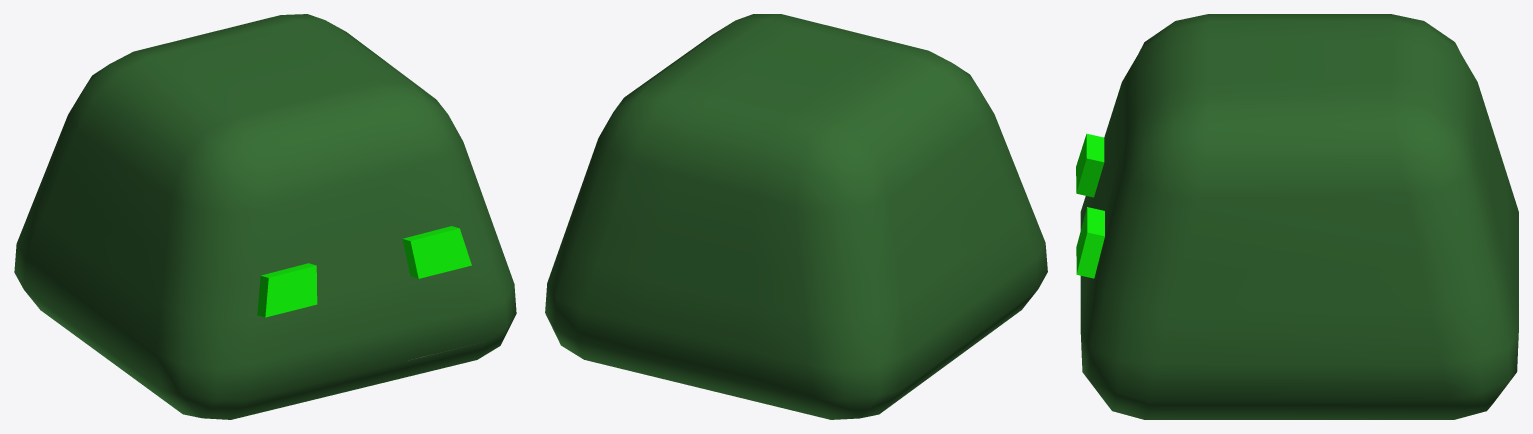
File: Slime1.fbx
3 views of the same model, side by side, from view 1: azimuth 30°, elevation 25°; view 2: azimuth 150°, elevation 25°; view 3: azimuth 270°, elevation 25° (orthographic). The views are drawn at different scales.
Visible parts, largest first — view 1: pCube2; view 2: pCube2; view 3: pCube2.
Part boxes in pixels (box(x1,y1,x2,y2)): pCube2: box(14, 14, 516, 419); pCube2: box(545, 14, 1047, 419); pCube2: box(1076, 14, 1518, 419).
Size of the model in its own units: 1.37 by 1 by 1.39.
